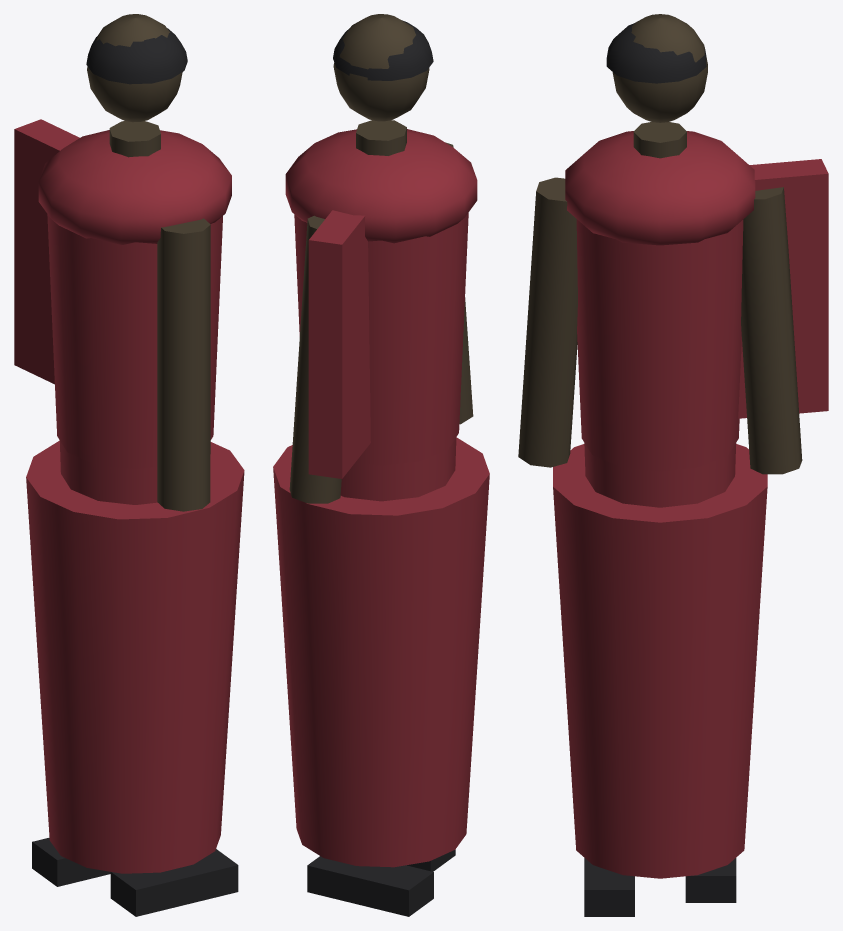
The model's file is KIT_FIGURE_1.glb.
3 views of the same model, side by side, from view 1: azimuth 30°, elevation 25°; view 2: azimuth 150°, elevation 25°; view 3: azimuth 270°, elevation 25° (orthographic).
Visible parts, largest first — view 1: KIT_FIGURE_1; view 2: KIT_FIGURE_1; view 3: KIT_FIGURE_1.
Part boxes in pixels (x1,y1,x2,y2): KIT_FIGURE_1: (14, 14, 244, 916); KIT_FIGURE_1: (273, 14, 489, 916); KIT_FIGURE_1: (518, 14, 828, 916).
Bounding box in the file's own units: 0.37 × 1.61 × 0.5216.
